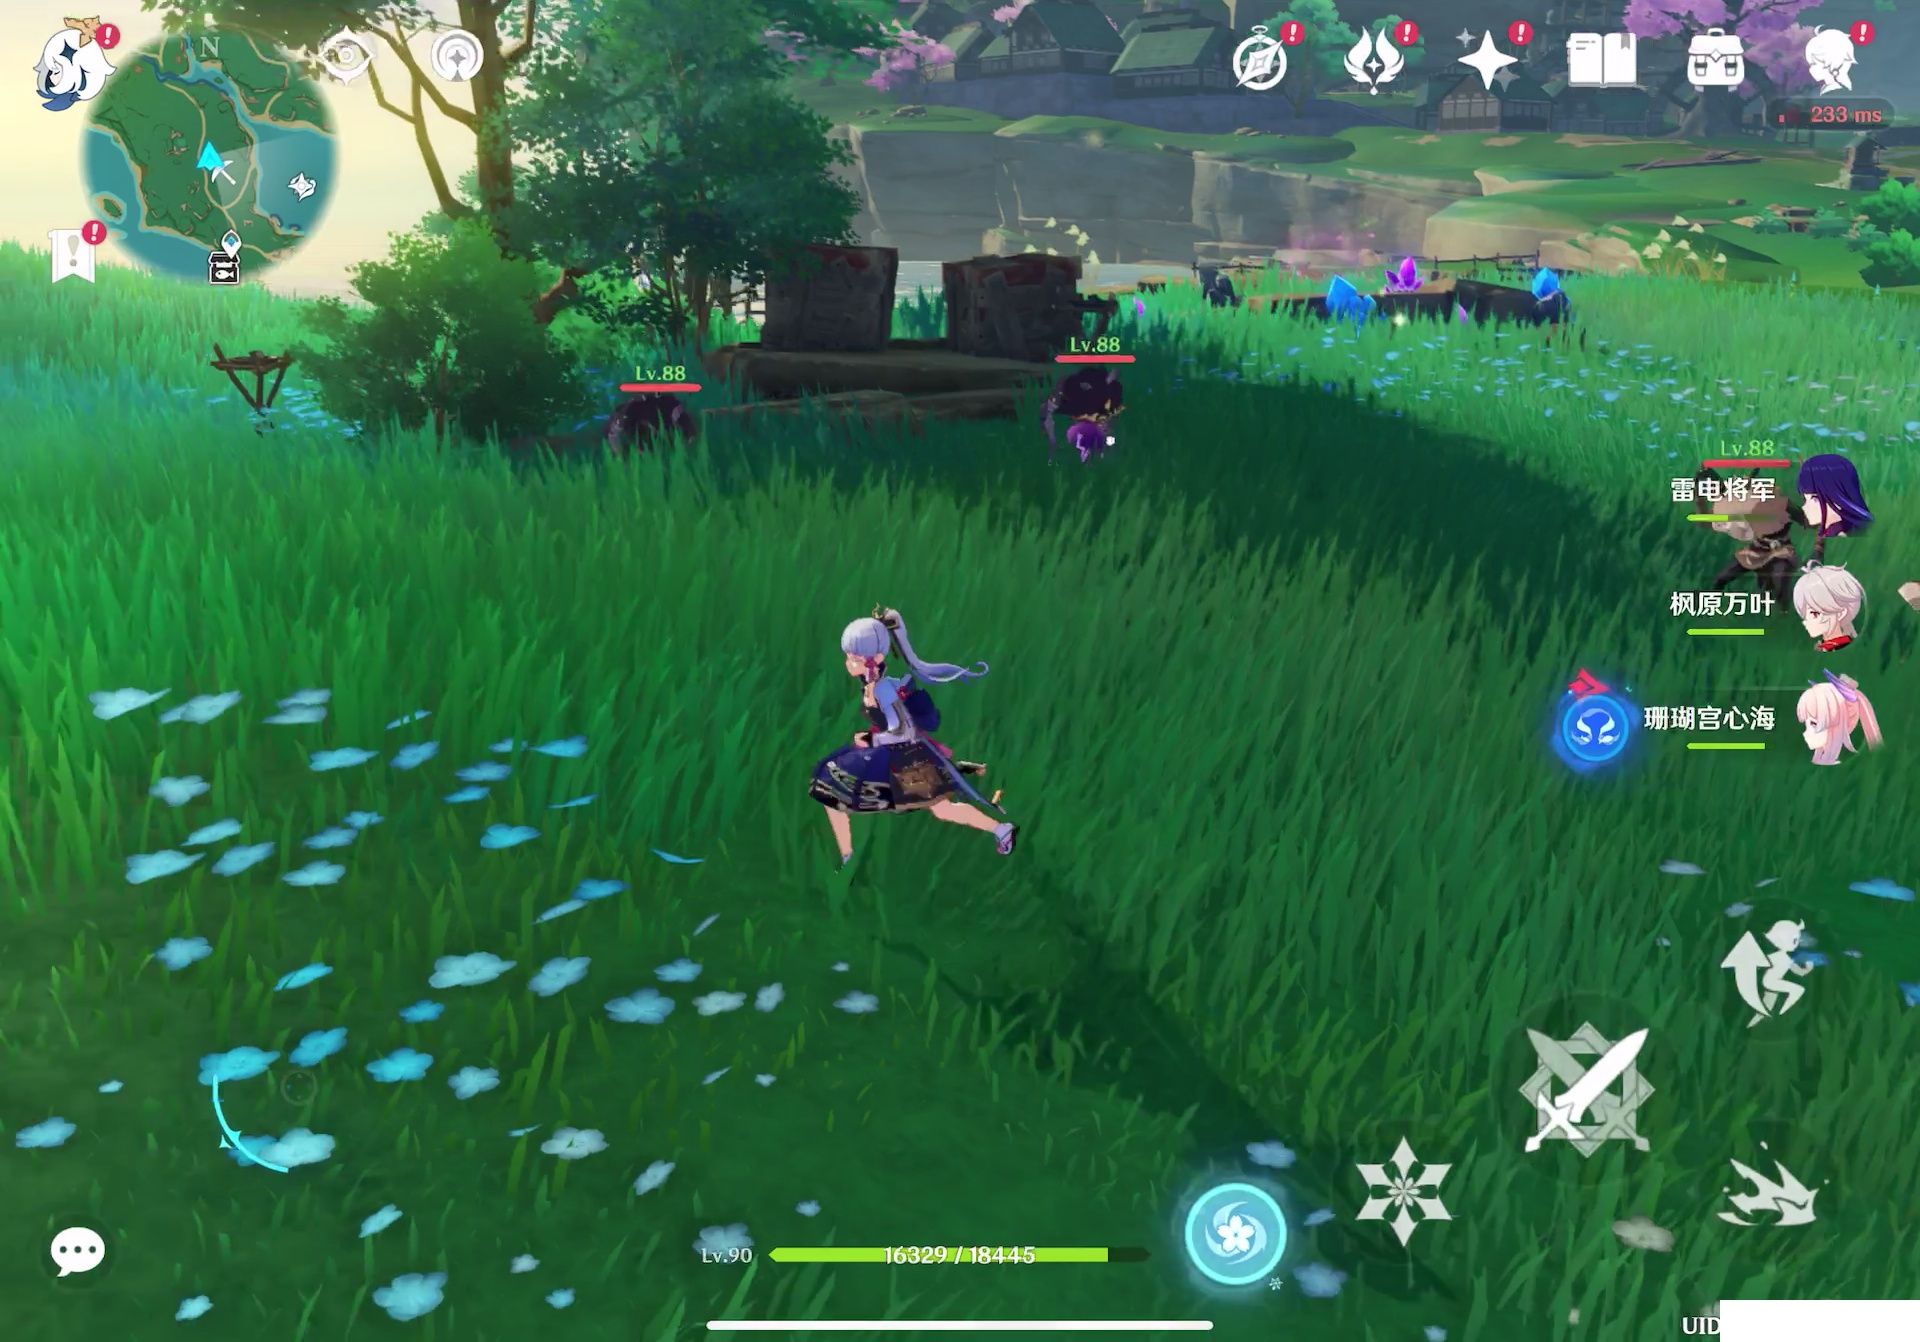丘丘人: (1040, 371, 1145, 465), (616, 403, 713, 465)
神里绫龟: (788, 598, 1064, 861)
